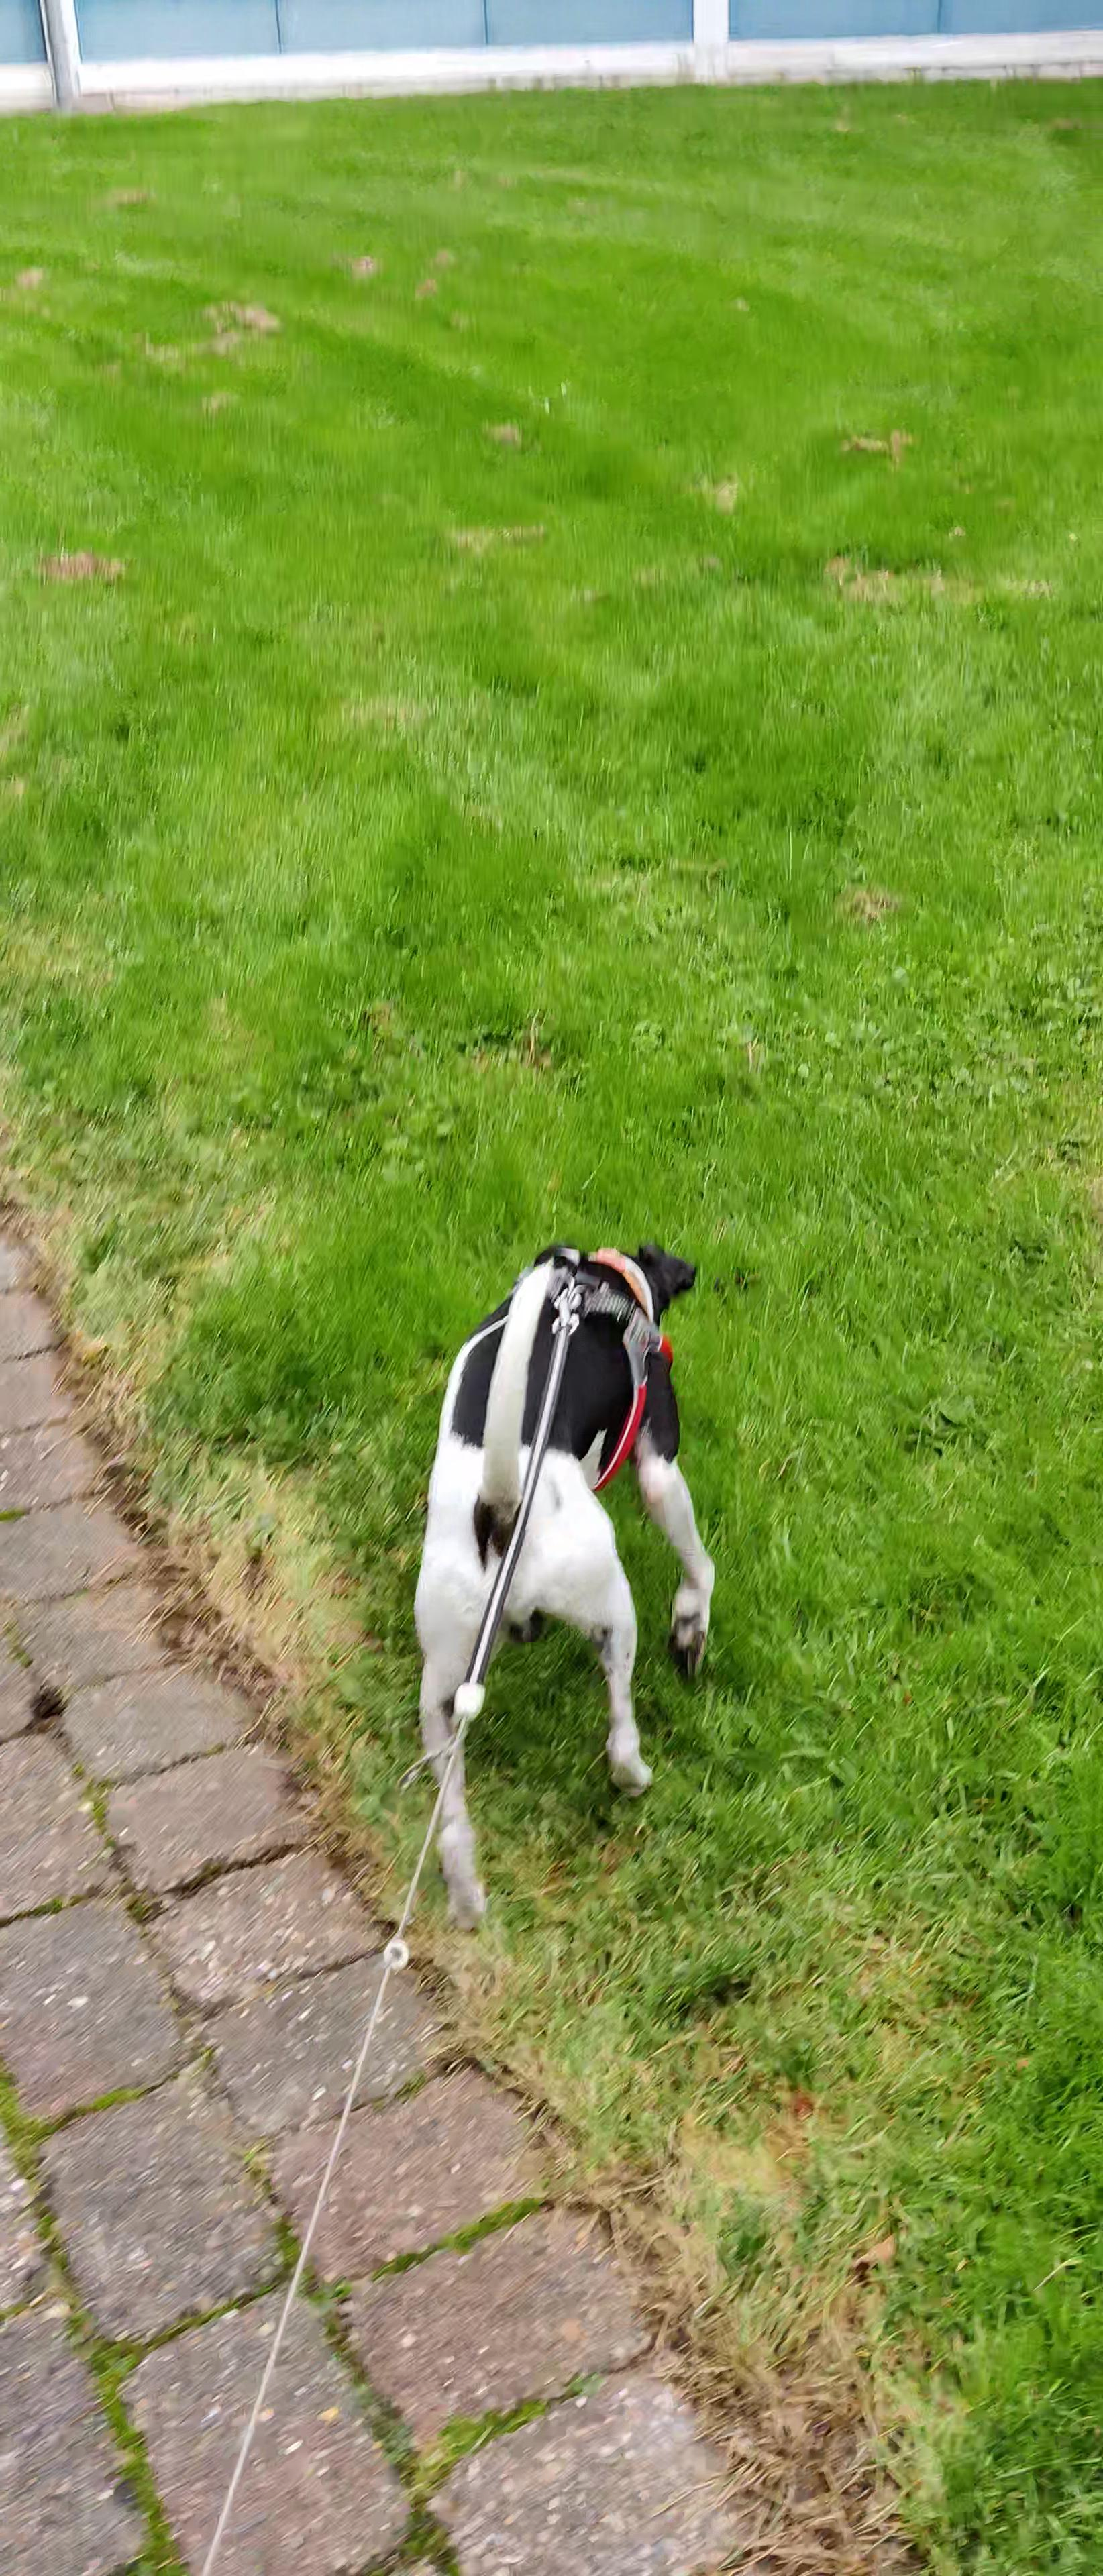Dog: (383, 1196, 745, 1935)
